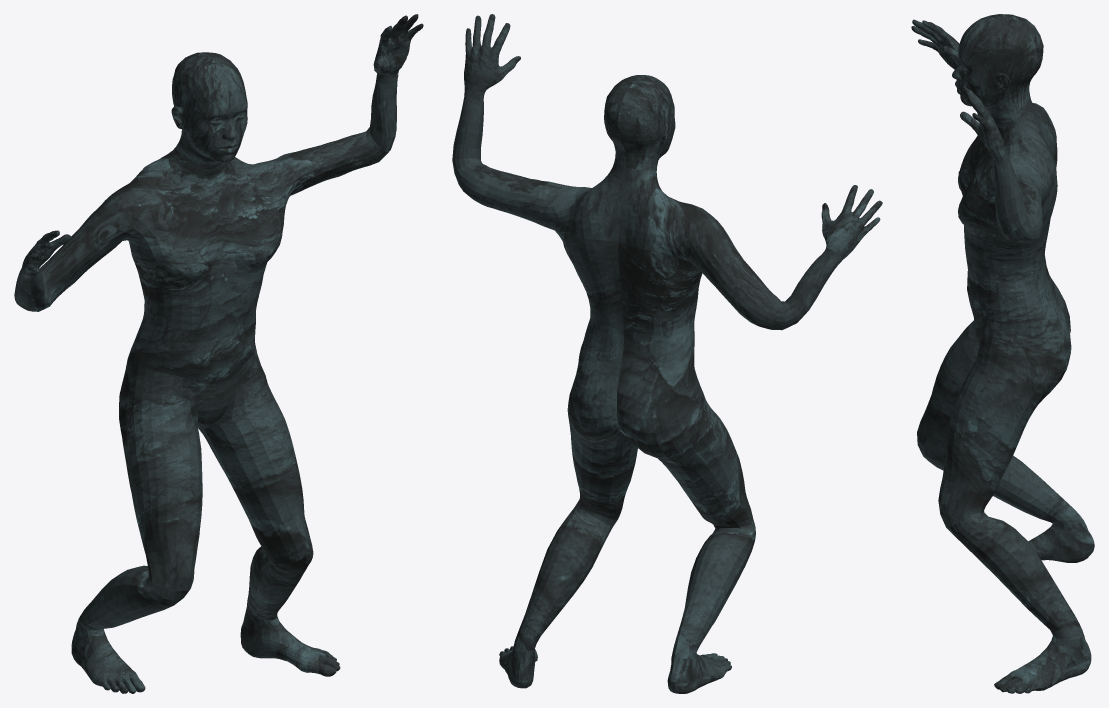
Rendered from body1.fbx.
3 views of the same model, side by side, from view 1: azimuth 30°, elevation 25°; view 2: azimuth 150°, elevation 25°; view 3: azimuth 270°, elevation 25° (orthographic). The views are drawn at different scales.
Visible parts, largest first — view 1: DUDEMAN:base1_obj; view 2: DUDEMAN:base1_obj; view 3: DUDEMAN:base1_obj.
Part boxes in pixels (x1,y1,x2,y2): DUDEMAN:base1_obj: (14, 14, 423, 693); DUDEMAN:base1_obj: (452, 14, 882, 693); DUDEMAN:base1_obj: (911, 14, 1094, 693).
Size of the model in its own units: 10.33 by 15.64 by 4.13.
